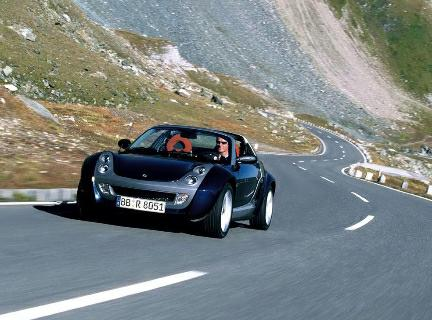smart-roadster: (62, 130, 280, 234)
